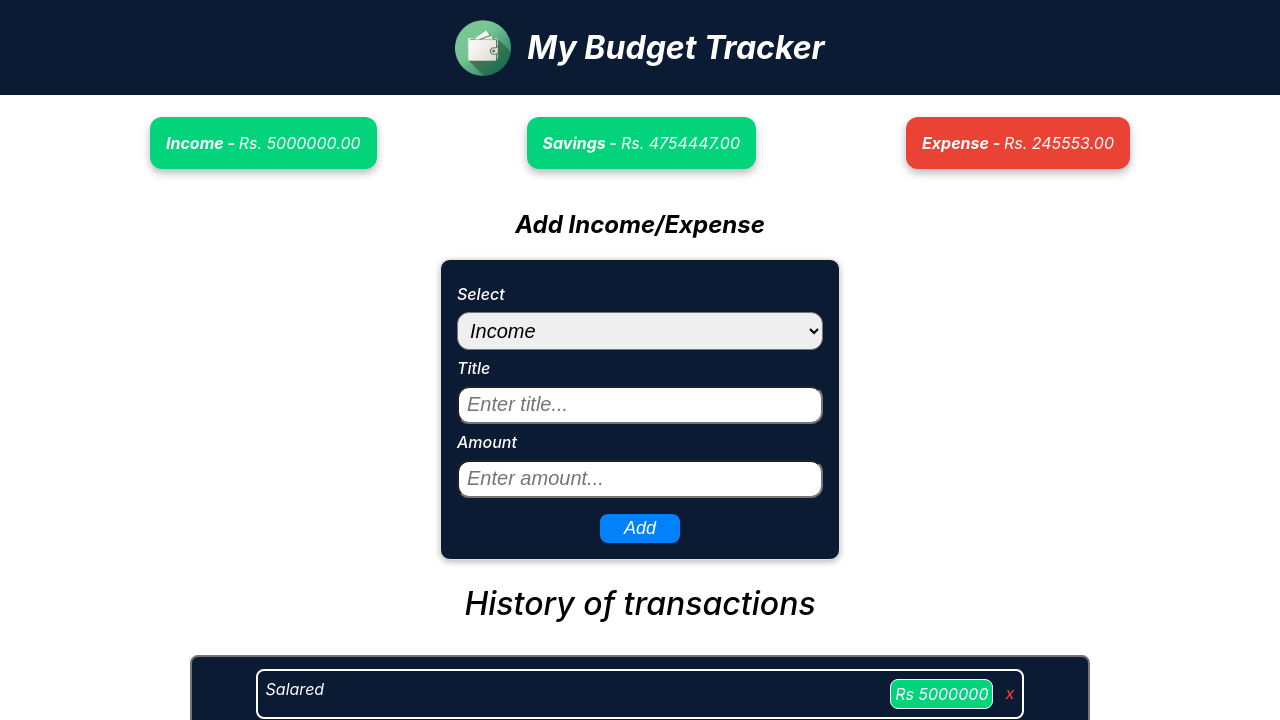
App › should render another transaction when clicking on add button
Select "Income" in the dropdown named "choose-type": [640, 331] box top-left (457, 312), bottom-right (823, 350)
In the field with placeholder "Enter title...": [640, 405] box top-left (457, 386), bottom-right (823, 424), type "Sold laptop"
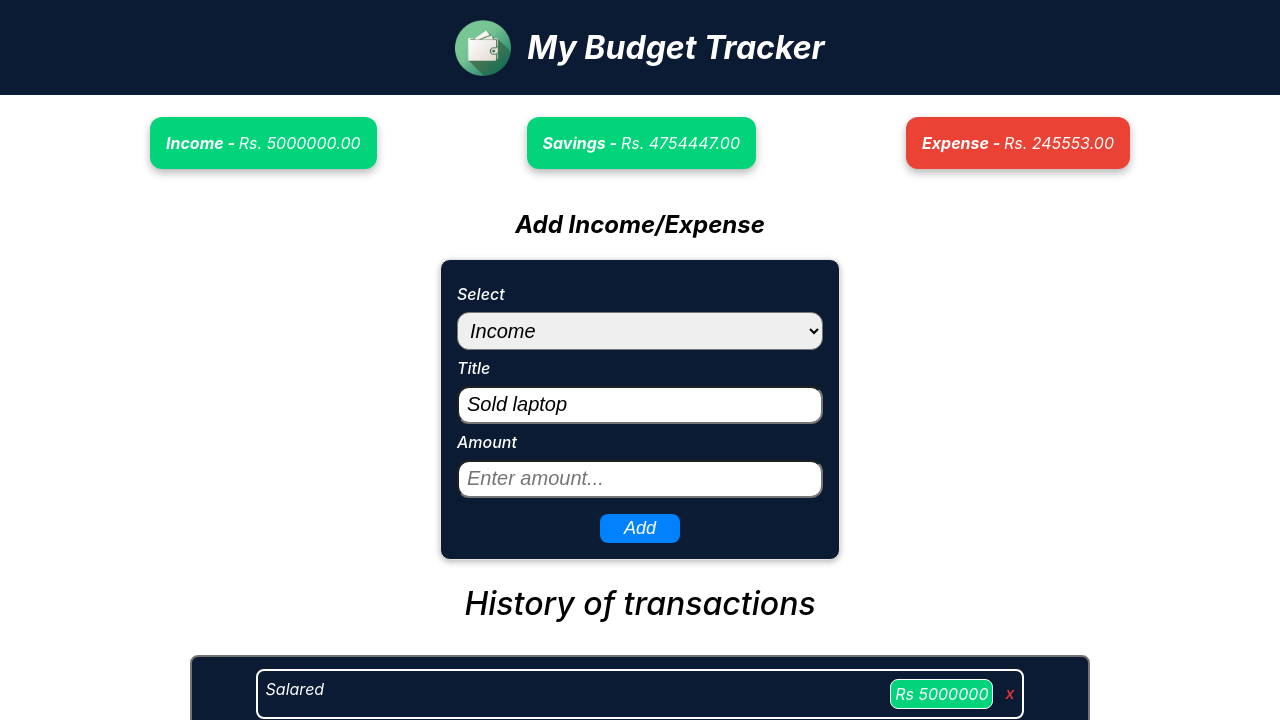
In the field with placeholder "Enter amount...": [640, 479] box top-left (457, 460), bottom-right (823, 498), type "20000"
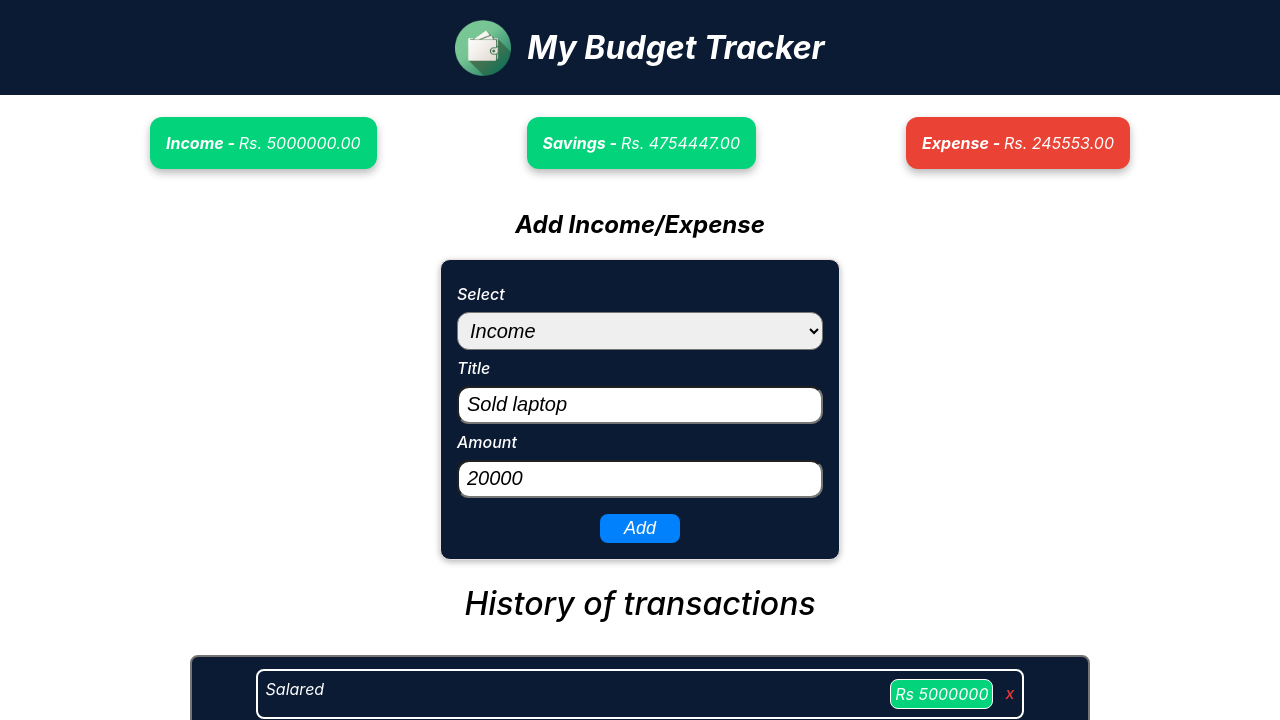
Click the button "Add": [640, 528] box top-left (600, 514), bottom-right (680, 543)
(page scrolled)
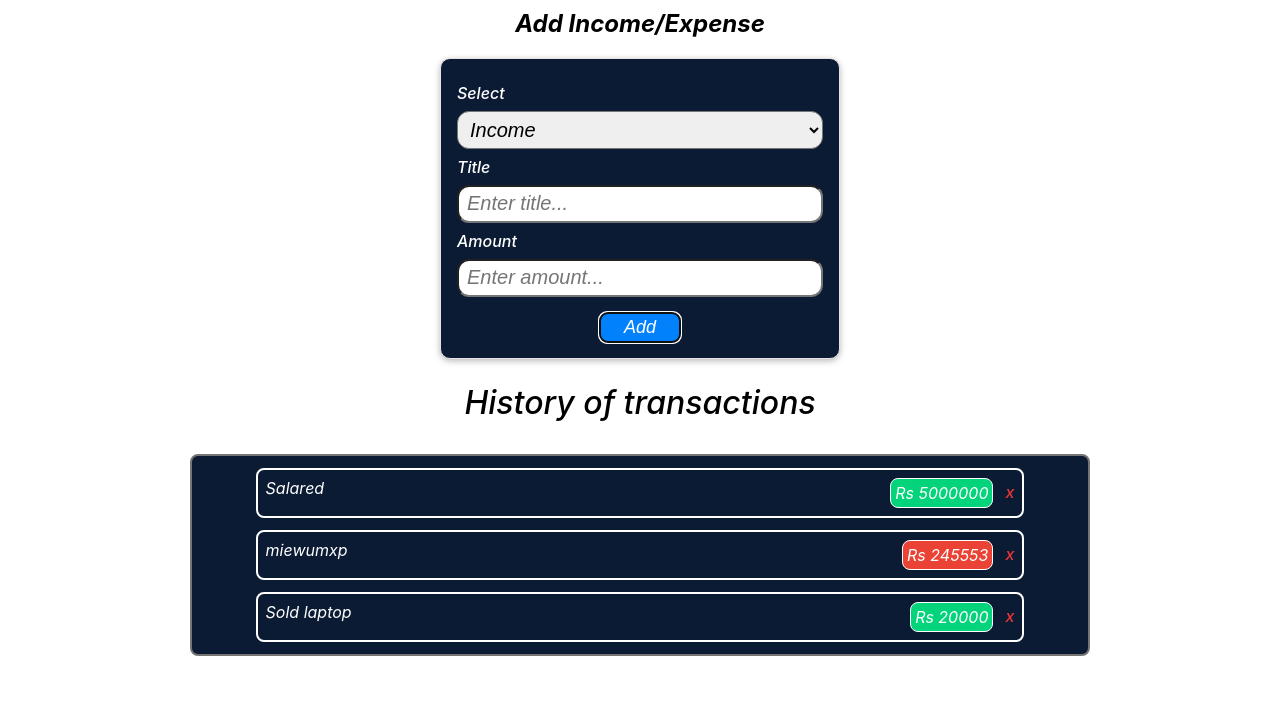
Expected: the field with placeholder "Enter title..." is empty, top-left (457, 185), bottom-right (823, 223)
Expected: the field with placeholder "Enter amount..." is empty, top-left (457, 259), bottom-right (823, 297)
Expected: the text "Sold laptop" is shown, top-left (266, 602), bottom-right (352, 632)
